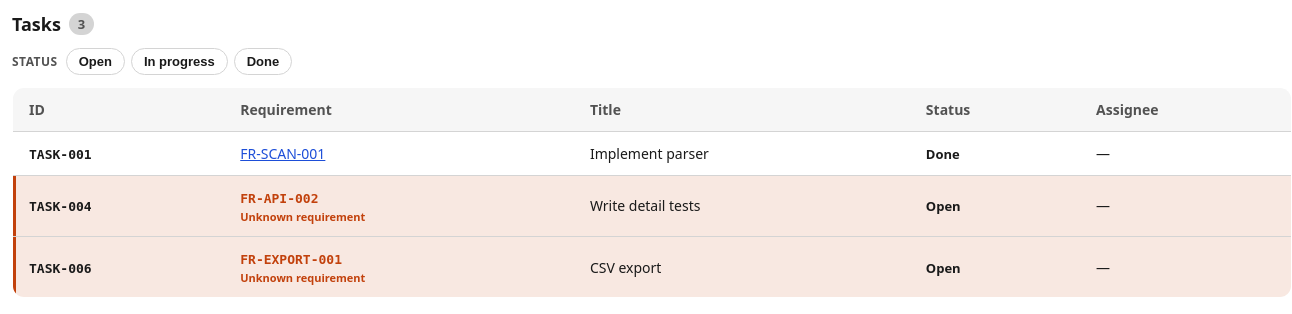
Test: TasksPanel › filters tasks by status when chip is toggled
Click the button "Open". click: (95, 61)
box: [66,48,125,75]
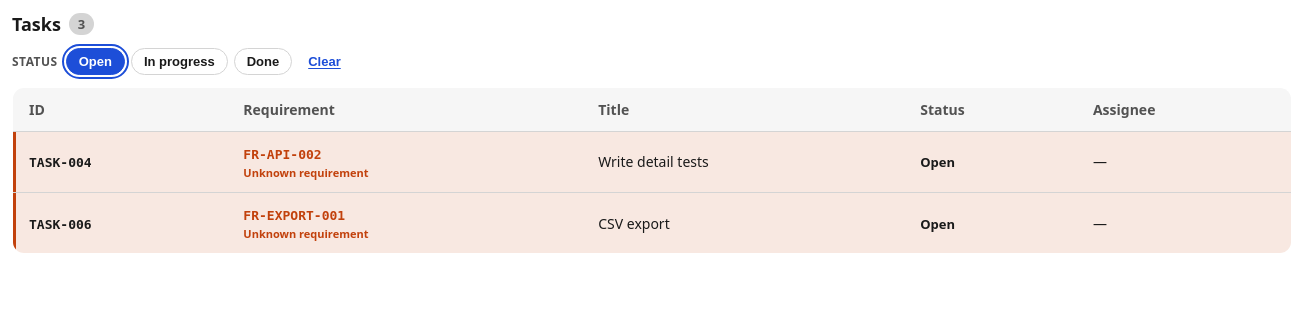
Expected: the text "TASK-004" is shown, [29,155,92,170]
Expected: the text "TASK-001" is gone
